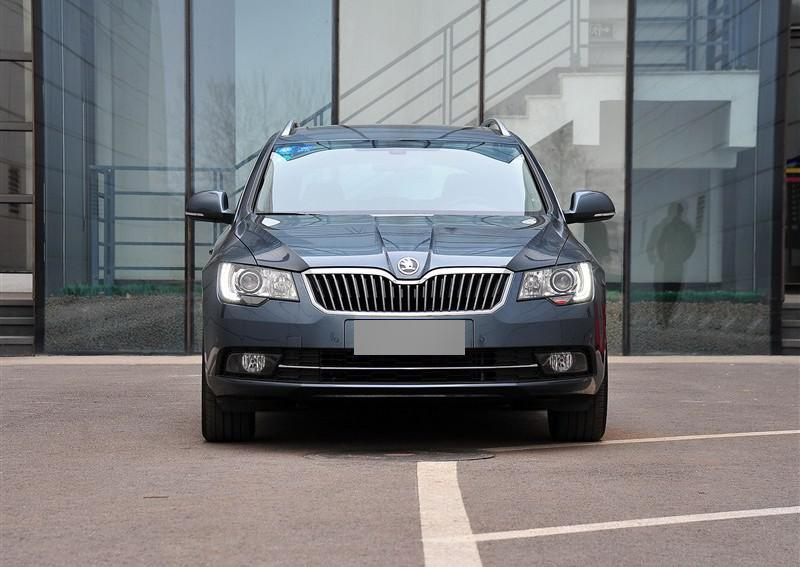Wagon: (184, 116, 614, 443)
